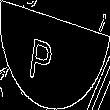P_N: (41, 26, 69, 84)
